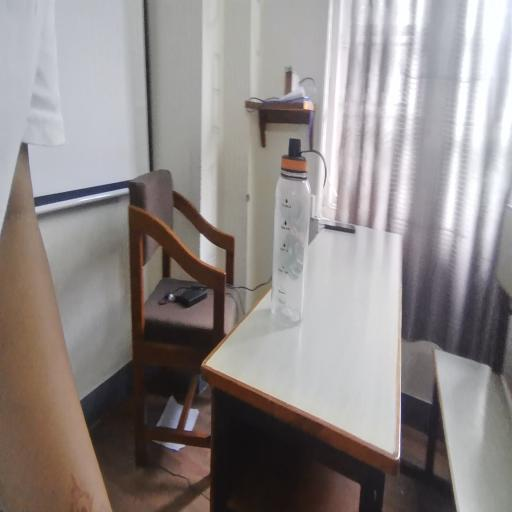Bottle: (269, 129, 320, 335)
